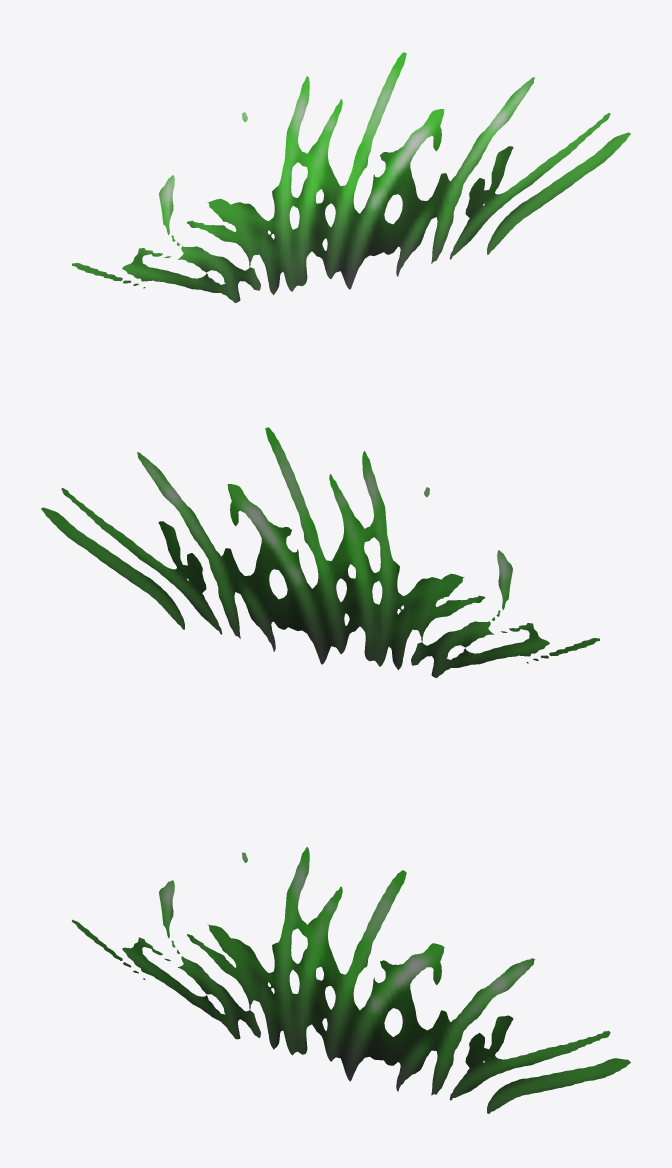
File: Underwater Plant.FBX
3 views of the same model, one above another, from view 1: azimuth 30°, elevation 25°; view 2: azimuth 150°, elevation 25°; view 3: azimuth 330°, elevation 25° (orthographic).
Parts seen in each view (by area): view 1: Underwater Plant; view 2: Underwater Plant; view 3: Underwater Plant.
Part boxes in pixels (x1,y1,x2,y2): Underwater Plant: (72,52,630,302); Underwater Plant: (41,427,599,677); Underwater Plant: (71,847,630,1113).
Bounding box in the file's own units: 303 × 2.18e-05 × 134.
